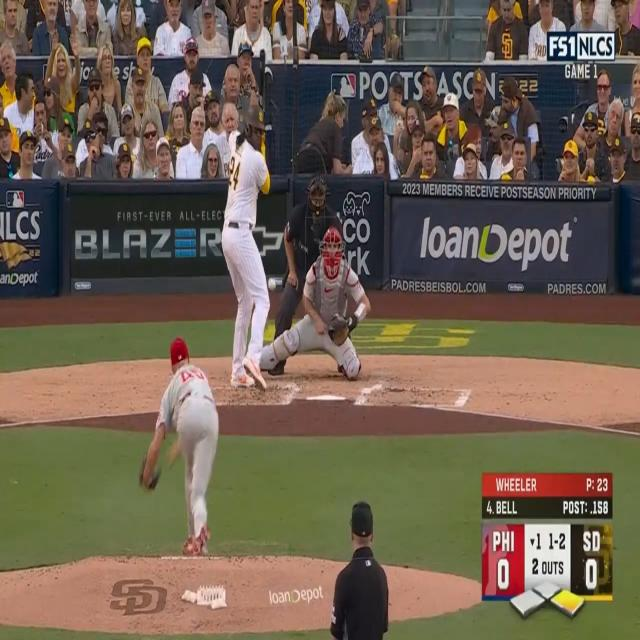baseball: (268, 277, 276, 291)
